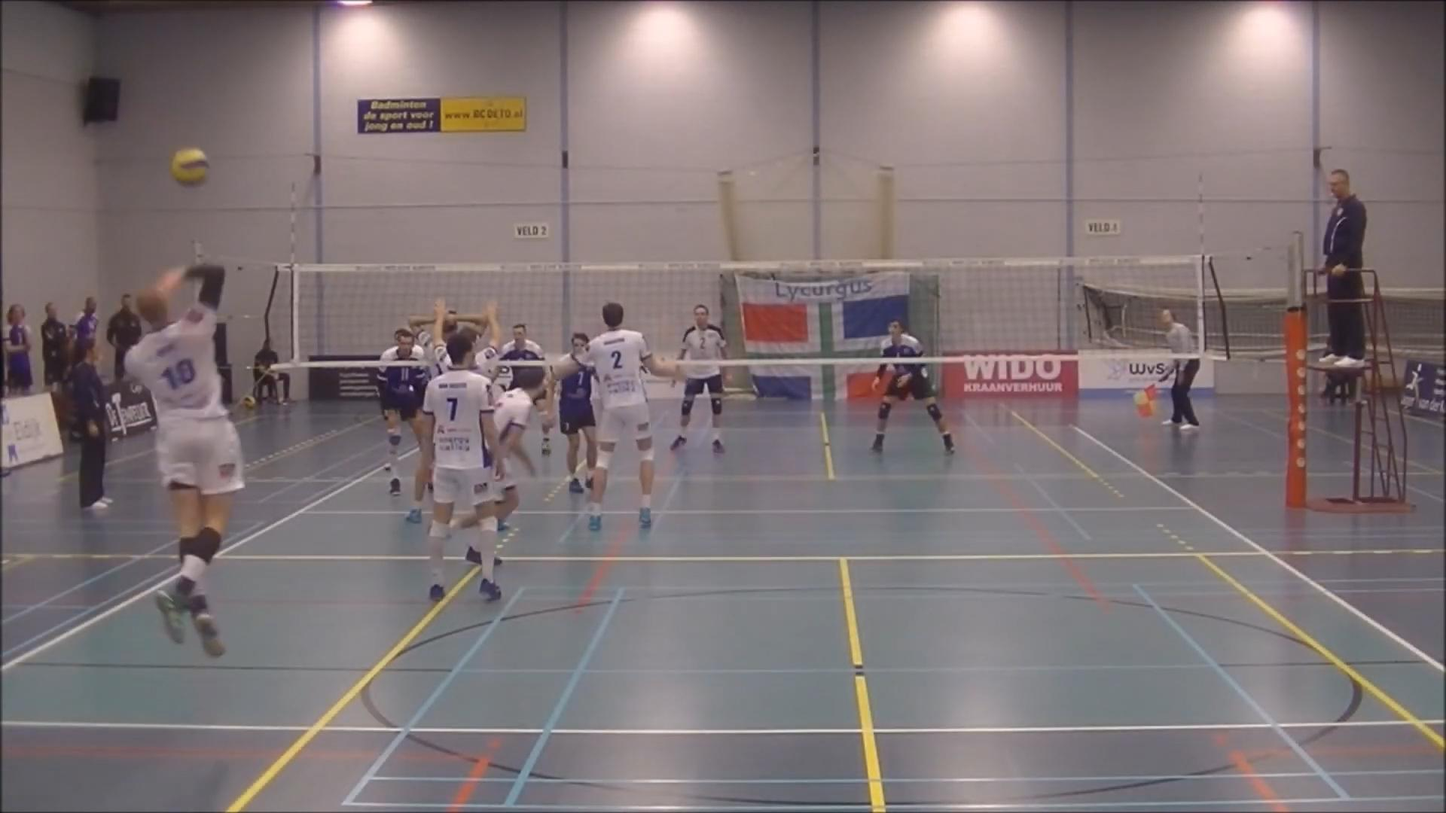Player: (554, 303, 679, 530), (423, 331, 505, 600), (872, 320, 954, 453), (376, 328, 429, 495), (494, 367, 547, 528), (408, 298, 487, 376), (493, 367, 549, 475), (554, 366, 596, 493), (671, 365, 724, 452), (499, 323, 545, 390)
Serve: (102, 253, 250, 662)
ball: (172, 146, 208, 186)
